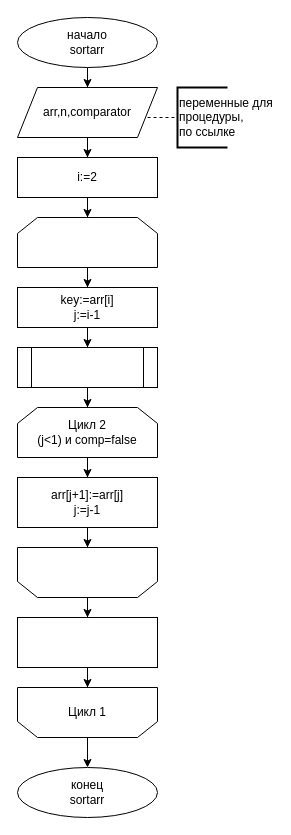
This 291x835 diagram has some shape labels left out. Each missing label, with the box of its shape:
arr[j+1]:=key: (16, 616, 158, 668)
comp:=comparator (arr[j],key): (16, 346, 158, 388)
Цикл 1 i>n: (16, 216, 158, 268)
Цикл 2: (16, 546, 158, 598)
